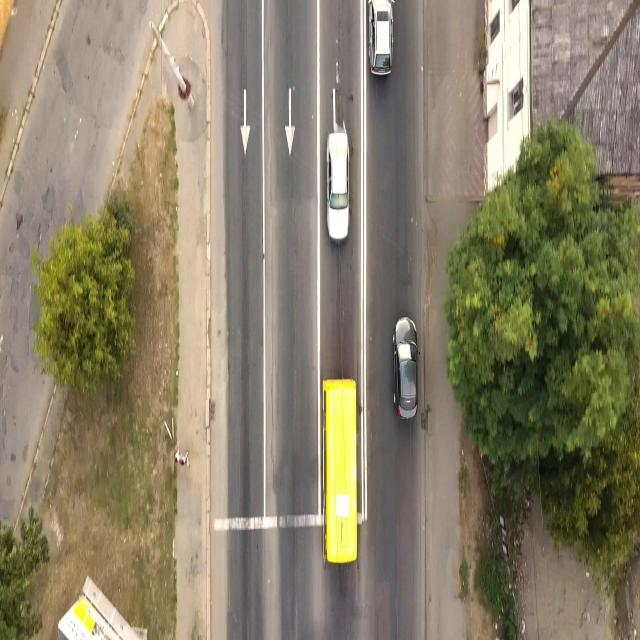Bus: (322, 372, 359, 563)
Car: (324, 130, 352, 246), (394, 314, 421, 432), (366, 0, 395, 81)
